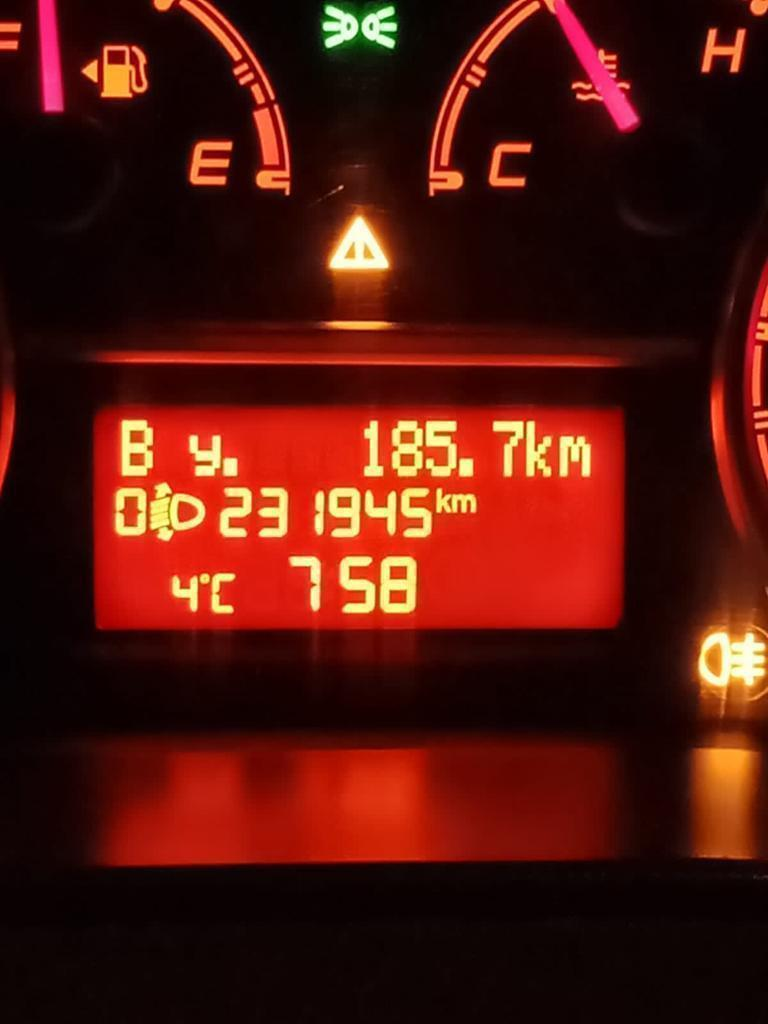,: (456, 456, 475, 479), (220, 456, 239, 477)
0: (112, 486, 147, 537)
1: (359, 418, 385, 478), (312, 488, 325, 537)
2: (218, 486, 252, 539)
3: (256, 486, 289, 539)
4: (362, 488, 397, 538), (169, 574, 199, 614)
5: (336, 554, 376, 615), (424, 419, 458, 478), (399, 486, 433, 539)
7: (285, 554, 323, 613), (491, 419, 524, 479)
8: (378, 555, 418, 615), (389, 420, 424, 478)
9: (327, 486, 362, 538)
X: (118, 417, 155, 477), (524, 419, 554, 479), (557, 434, 593, 480), (187, 432, 222, 478), (209, 571, 237, 615), (451, 492, 478, 514), (435, 486, 451, 514)
odometer: (86, 399, 631, 637)
